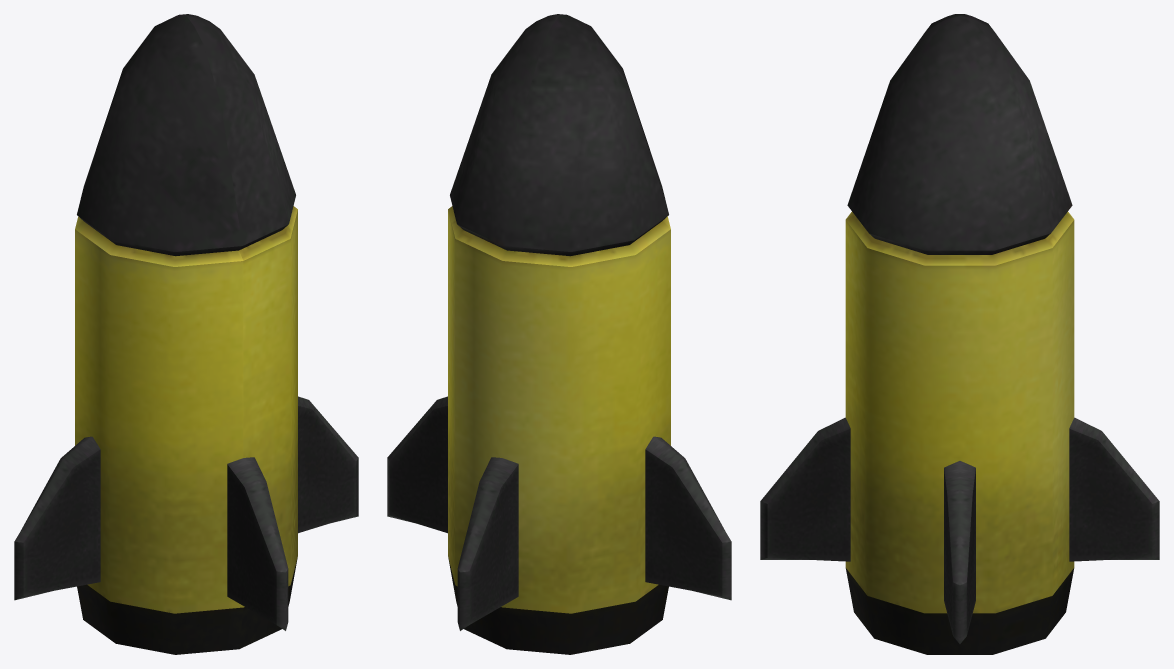
The model's file is Missile.DAE.
The picture shows the model from 3 angles, left to right: view 1: azimuth 30°, elevation 25°; view 2: azimuth 150°, elevation 25°; view 3: azimuth 270°, elevation 25°; orthographic projection.
Visible parts, largest first — view 1: missile; view 2: missile; view 3: missile.
Boxes of the visible parts, x1=… form: missile: x1=14, y1=14, x2=358, y2=654; missile: x1=387, y1=14, x2=731, y2=654; missile: x1=760, y1=14, x2=1159, y2=654.
Bounding box in the file's own units: 0.5008 × 0.5008 × 0.8261.
